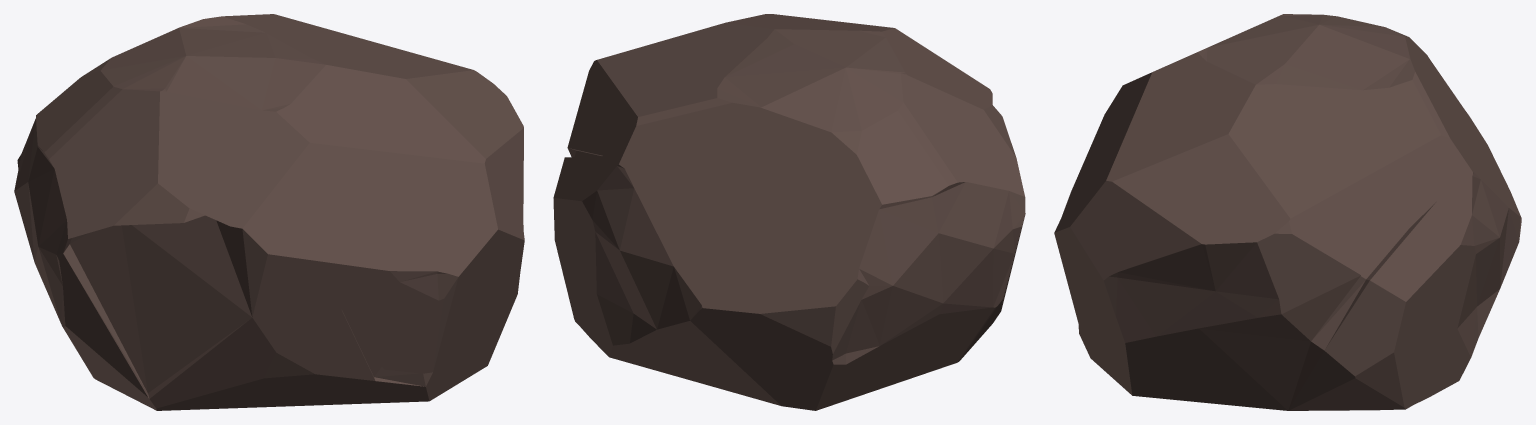
The model's file is Rock 9.fbx.
The picture shows the model from 3 angles, left to right: view 1: azimuth 30°, elevation 25°; view 2: azimuth 150°, elevation 25°; view 3: azimuth 270°, elevation 25°; orthographic projection. The views are drawn at different scales.
Visible parts, largest first — view 1: Cliff shard 9; view 2: Cliff shard 9; view 3: Cliff shard 9.
Boxes of the visible parts, <box> form: Cliff shard 9: <box>14,14,524,410</box>; Cliff shard 9: <box>553,14,1025,410</box>; Cliff shard 9: <box>1054,14,1521,410</box>.
Size of the model in its own units: 1.54 by 0.9599 by 1.47.
